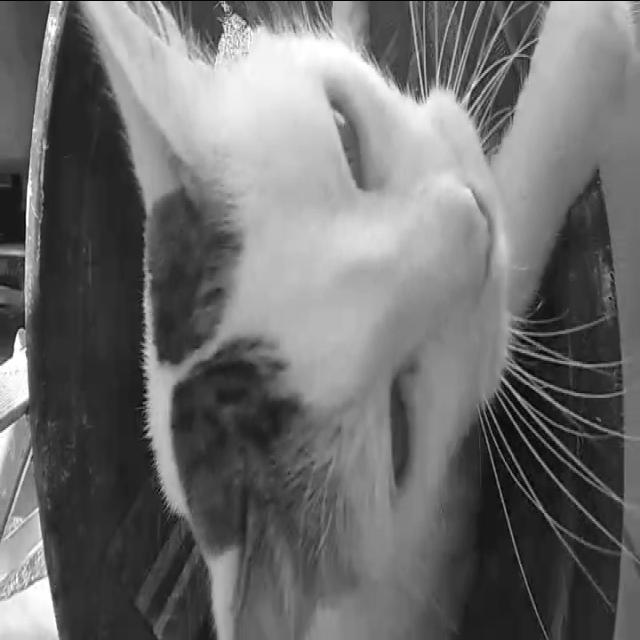Simba: (3, 1, 639, 638)
